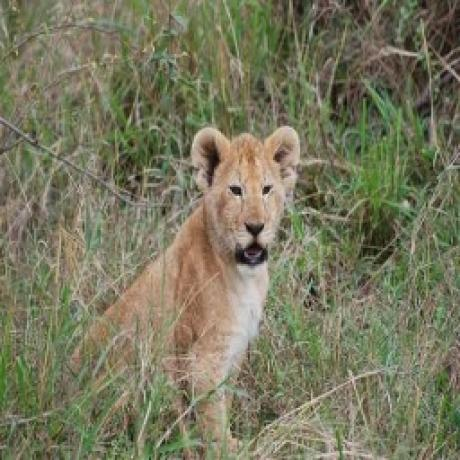Lion: (66, 125, 301, 419)
